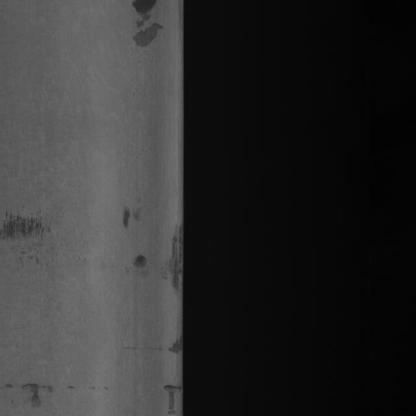oil_spot: (0, 208, 58, 258), (117, 203, 151, 284), (3, 373, 57, 413), (127, 0, 166, 53), (161, 211, 182, 294), (160, 375, 180, 415), (165, 323, 184, 359)
